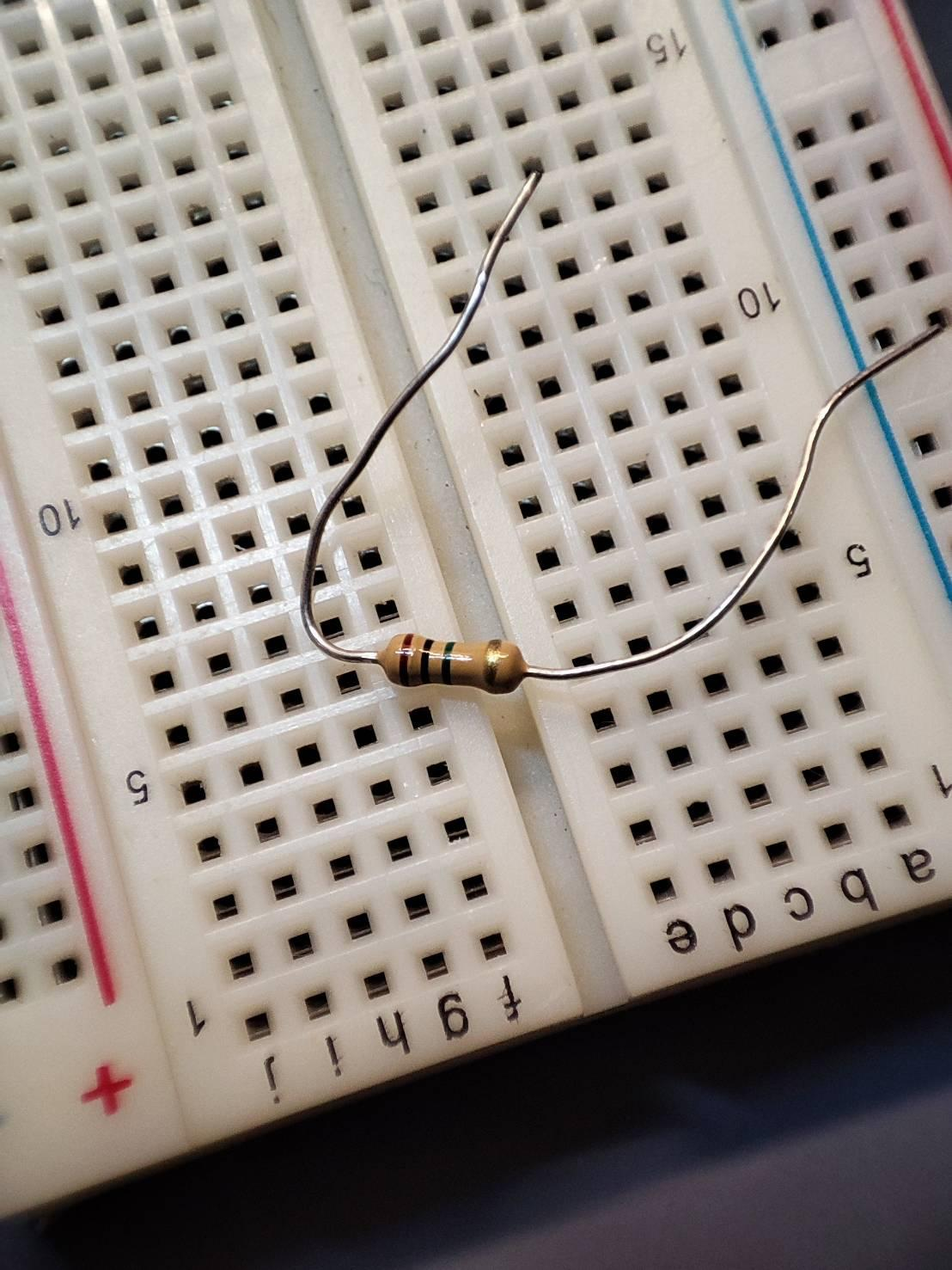resistor: (376, 625, 532, 701)
